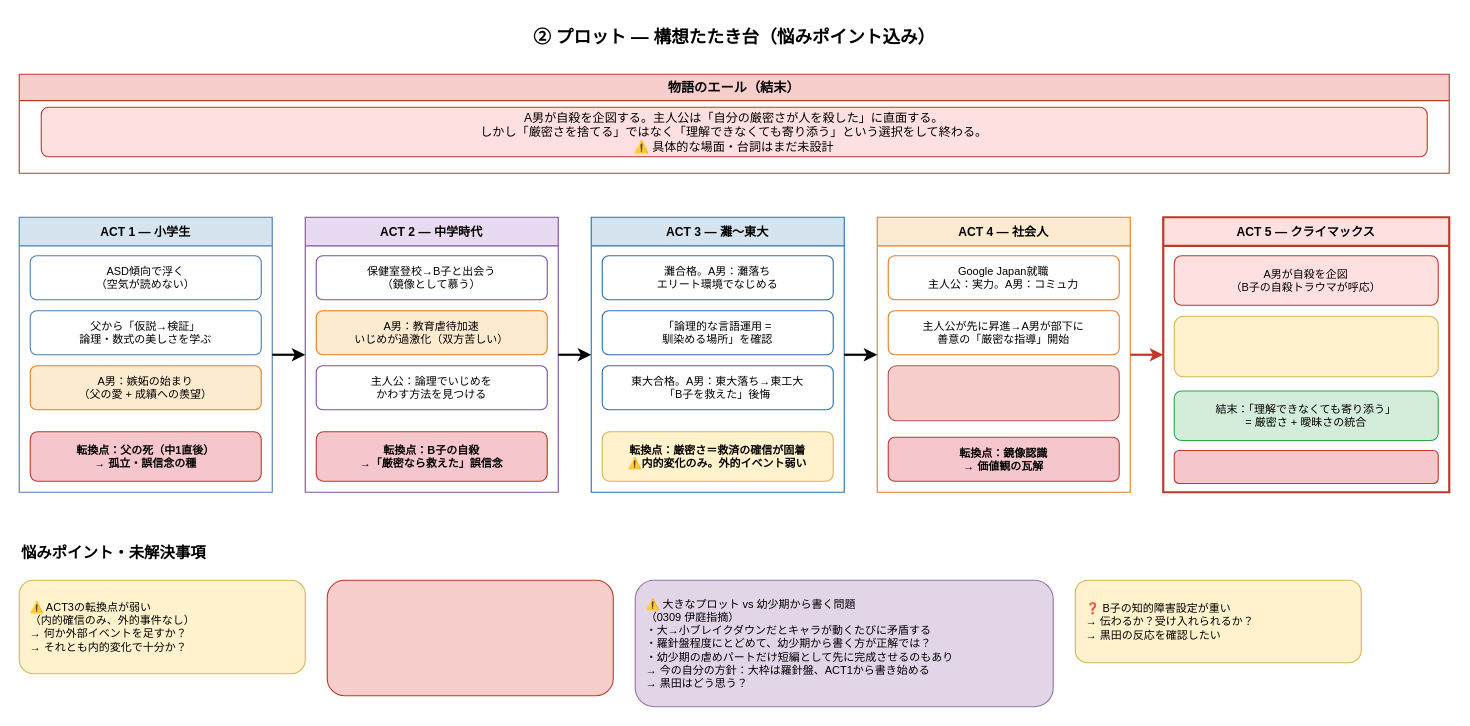
The diagram is 1470 pixels wide and 726 high, and some of its shapes have lost their labels. Each missing label, with the centre of its shape:
"A男が崩壊→出社不能 主人公：「自分がA男と同じことをしている」気づき" goes at point (1003, 393).
"⚠️ ACT5の具体場面が未設計 McKee必要条件： □ 中央価値軸が決着 □ 不可逆な価値変化 □ 期待と結果の最大ギャップ → 黒田に相談したい" goes at point (469, 637).
"⚠️ 未設計： 主人公はどう行動するか？ 具体場面・台詞なし" goes at point (1305, 346).
"転換点：不可逆な価値変化 （統制概念の体現）" goes at point (1305, 466).
